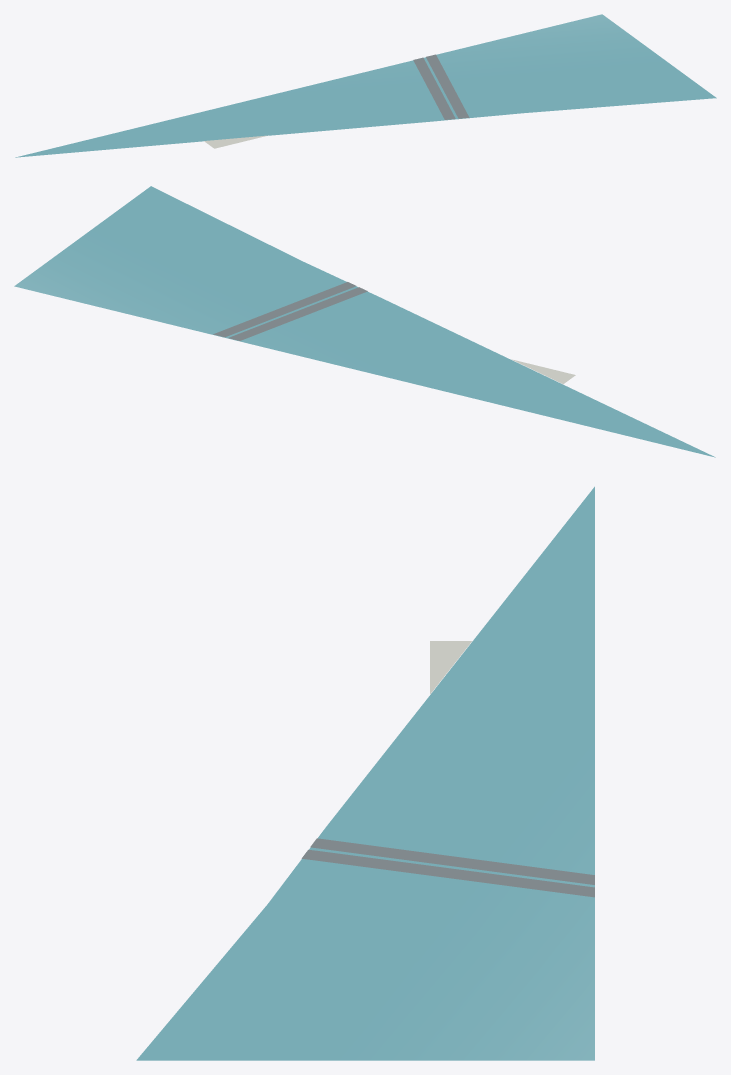
3 renders of one model, top to bottom at view 1: azimuth 30°, elevation 25°; view 2: azimuth 150°, elevation 25°; view 3: azimuth 270°, elevation 25°, orthographic. The views are drawn at different scales.
Visible parts, largest first — view 1: city; view 2: city; view 3: city.
Boxes of the visible parts, x1,y1,x2,y2 form: city: (15,14,716,157); city: (14,186,715,457); city: (136,486,594,1060).
Bounding box in the file's own units: 374 × 0.24 × 126.
